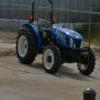Tractor: (12, 5, 97, 78)
